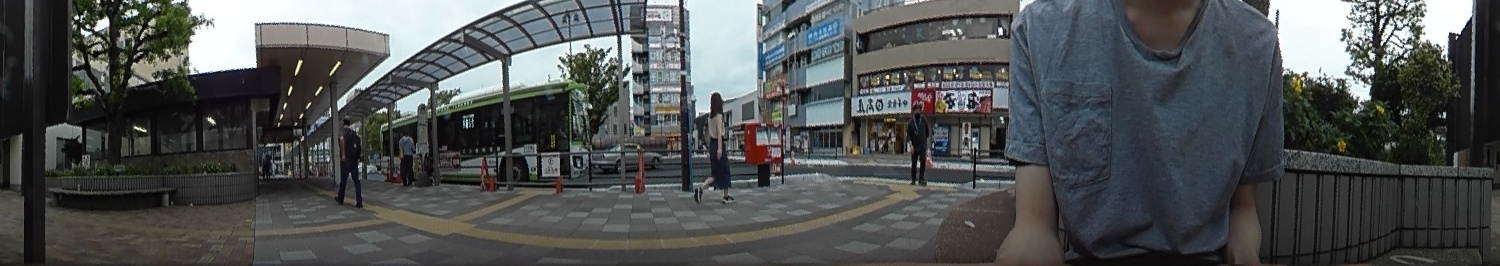difficult_person: (261, 152, 273, 180)
person: (699, 90, 736, 199), (335, 113, 364, 206), (907, 104, 929, 186), (398, 130, 416, 185)
